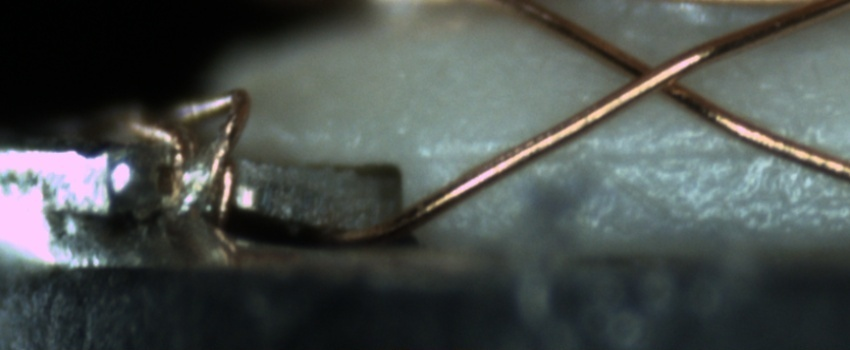CL: (599, 42, 704, 109)
DL: (416, 125, 849, 184)
TE: (115, 80, 257, 243)
